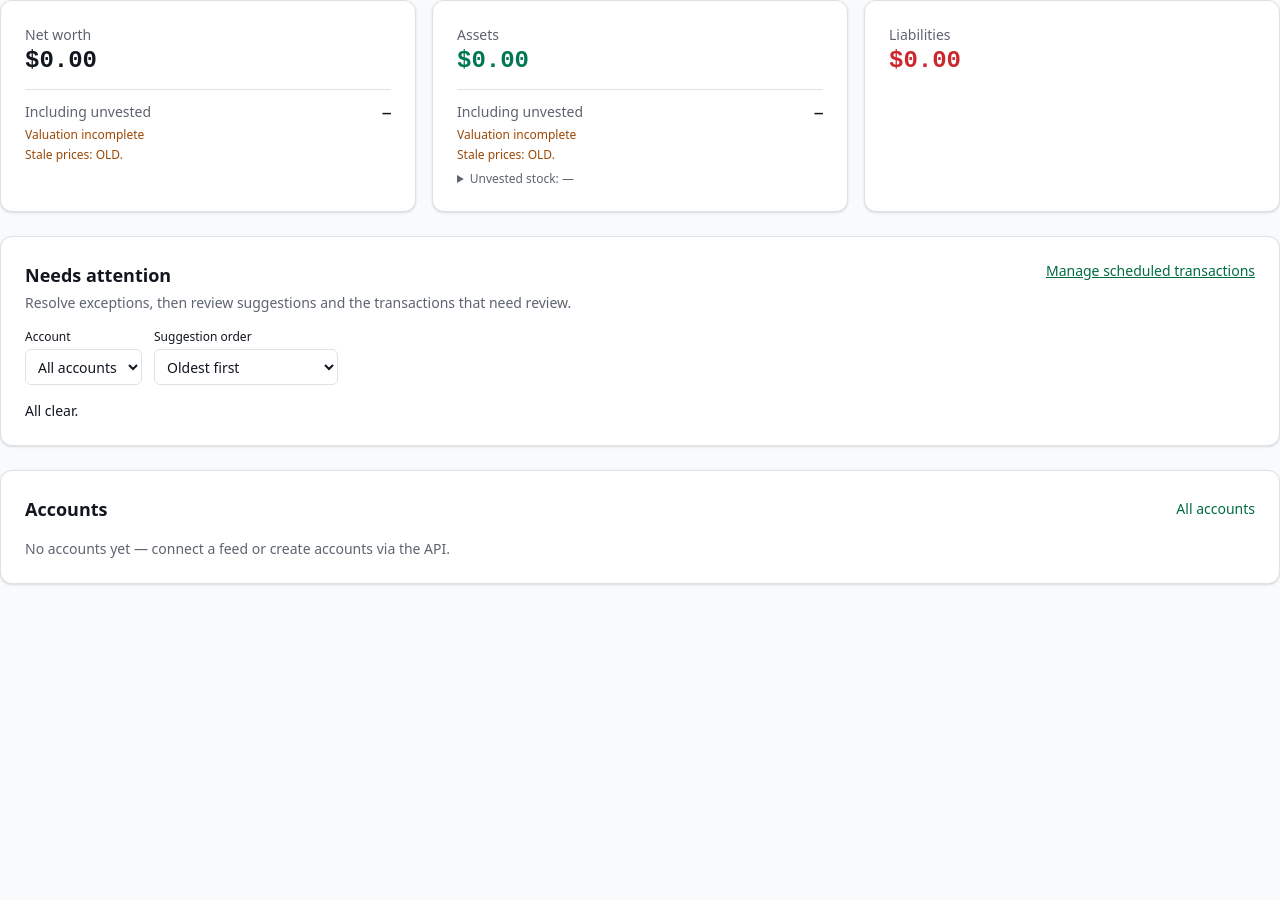
Scenario: Dashboard future stock value › keeps missing values unknown and identifies partial and stale valuations
Check: the text "Valuation incomplete" is shown 2 times, box x1=25 y1=126 x2=144 y2=143; x1=457 y1=126 x2=576 y2=143
Click the heading "Unvested stock: —" at (522, 178), box x1=470 y1=170 x2=574 y2=187
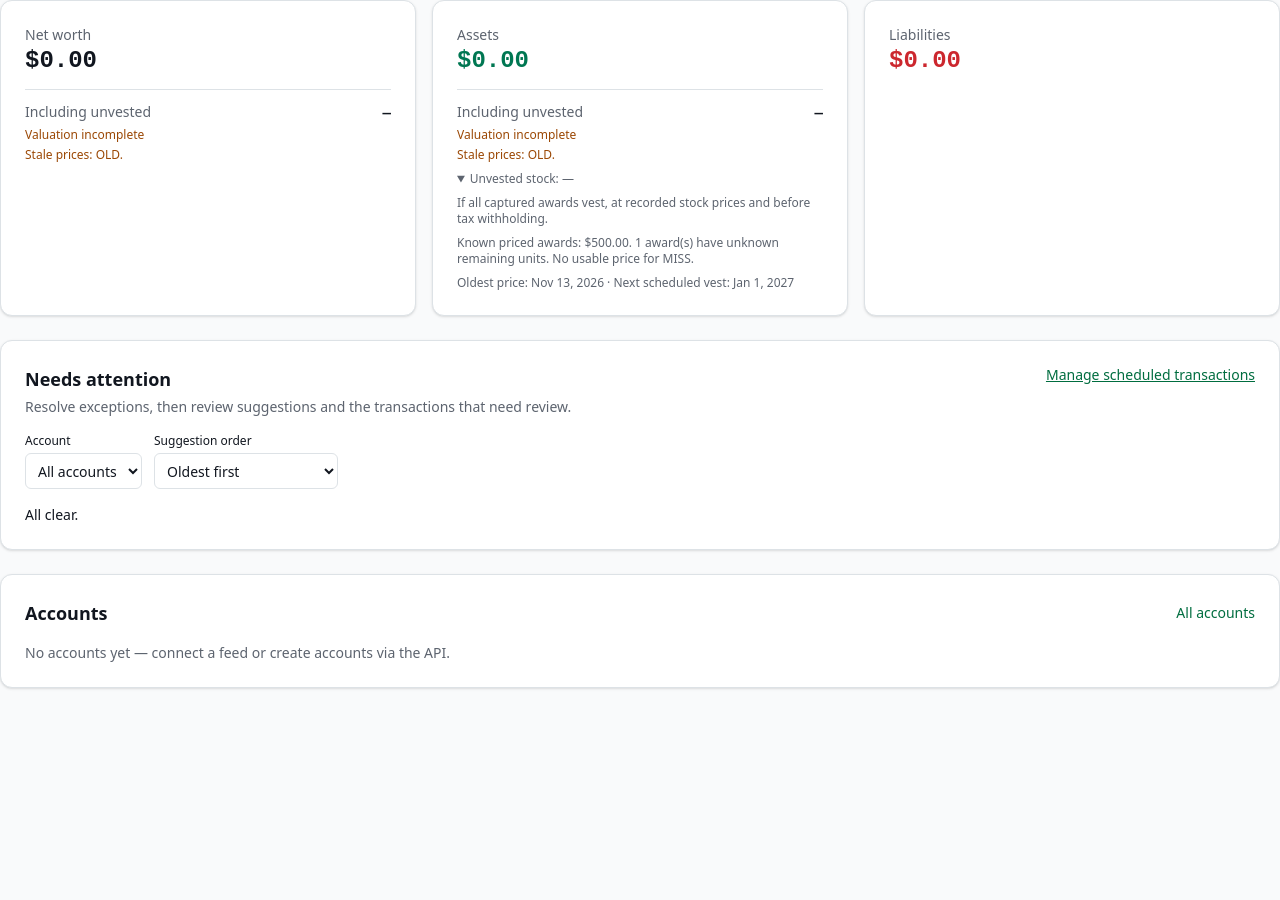
Check: the text "Stale prices: OLD." is shown 2 times, box x1=25 y1=146 x2=123 y2=163; x1=457 y1=146 x2=555 y2=163
Check: the text "Known priced awards" shows "$500.00", box x1=584 y1=234 x2=629 y2=251
Check: the text "Known priced awards" shows "MISS", box x1=549 y1=250 x2=694 y2=267
